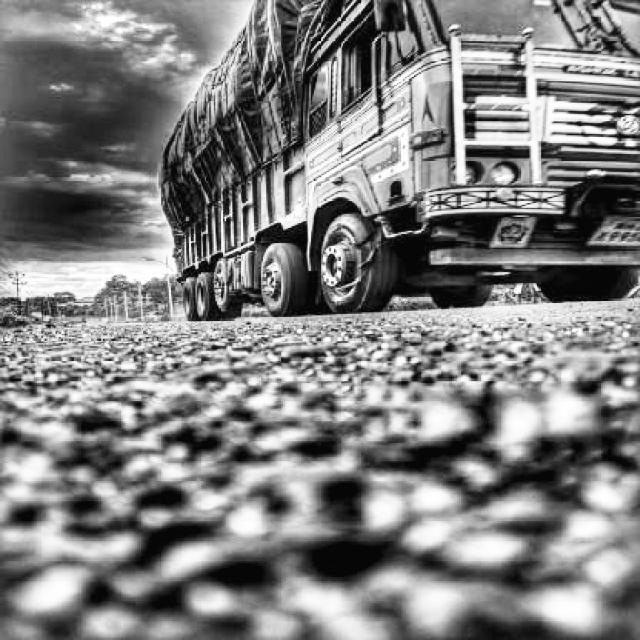HCV: (141, 6, 640, 281)
